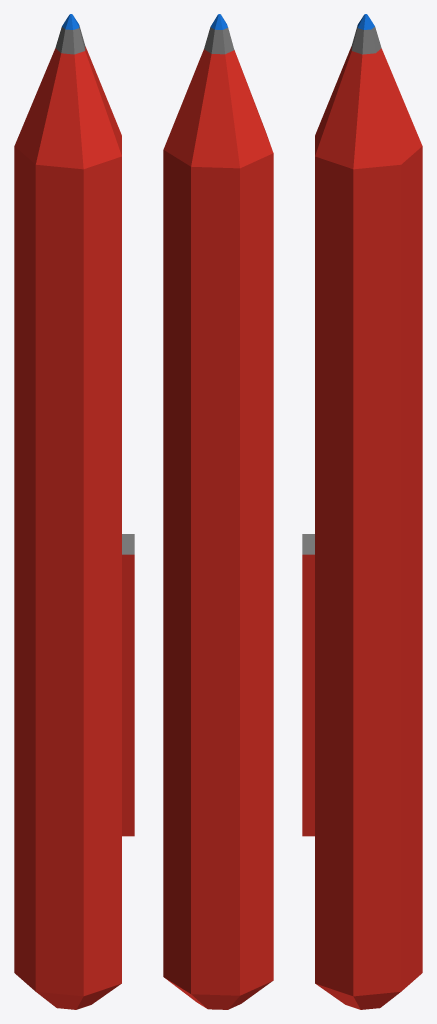
File: Pen.fbx
3 renders of one model, left to right at view 1: azimuth 90°, elevation 25°; view 2: azimuth 150°, elevation 25°; view 3: azimuth 270°, elevation 25°, orthographic.
Visible parts, largest first — view 1: Pen; view 2: Pen; view 3: Pen.
Part boxes in pixels (x1,y1,x2,y2): Pen: [14, 14, 134, 1009]; Pen: [163, 14, 273, 1009]; Pen: [302, 14, 422, 1009].
Size of the model in its own units: 7.72 by 76.12 by 8.4.
